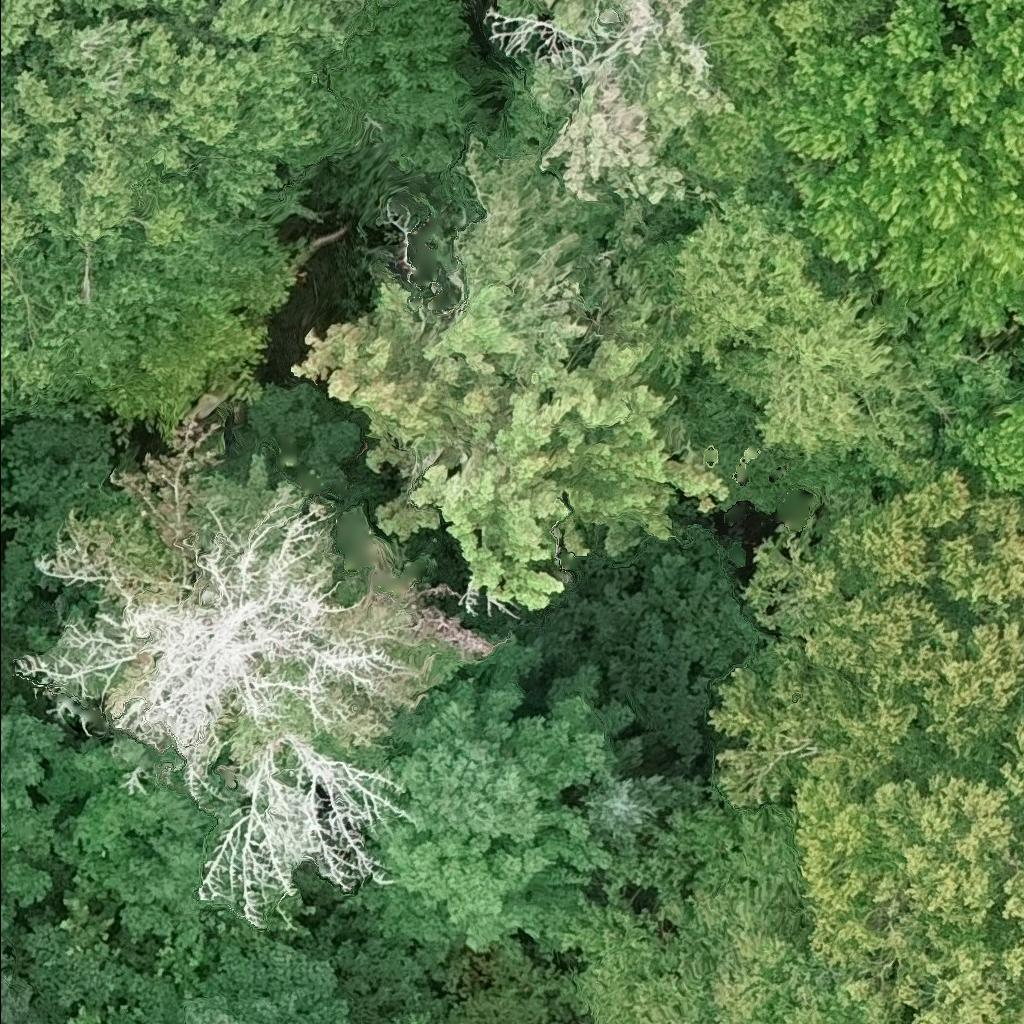crown: (290, 146, 764, 613), (0, 0, 482, 438), (702, 465, 1023, 1023), (642, 178, 1023, 507), (11, 501, 412, 796), (772, 0, 1023, 354), (560, 774, 911, 1023), (338, 663, 636, 953), (502, 0, 738, 202), (668, 0, 893, 194), (201, 732, 419, 927), (577, 764, 707, 846), (937, 385, 1023, 488), (180, 986, 353, 1023)
